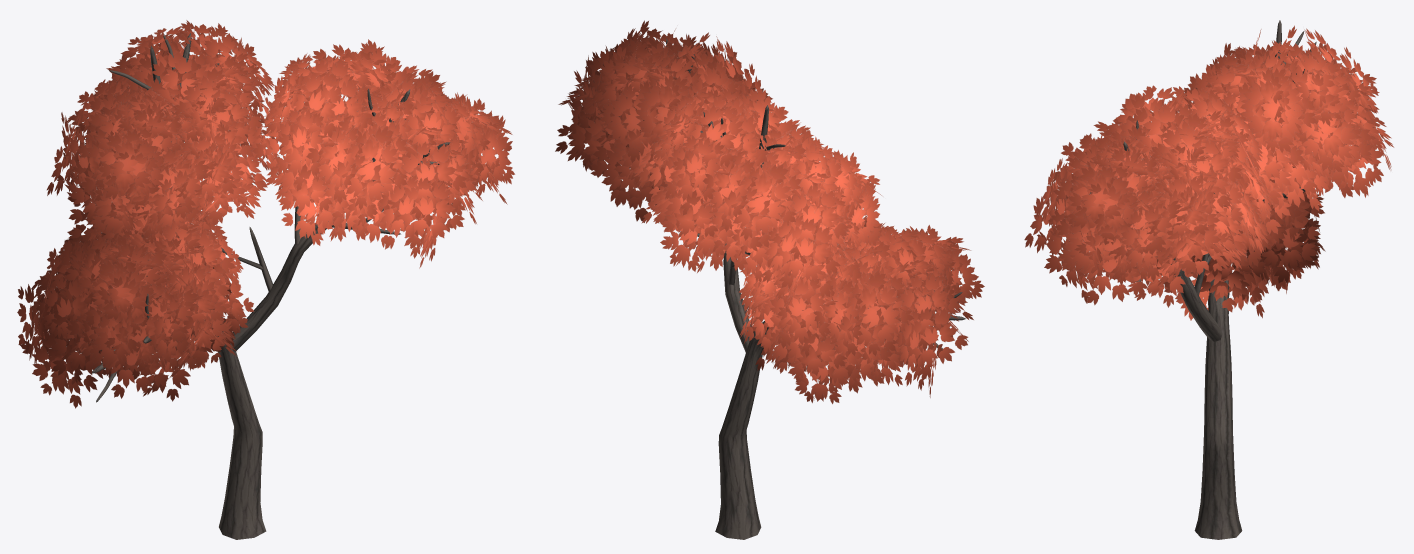
Rendered from MapleTree_5.glb.
3 renders of one model, left to right at view 1: azimuth 30°, elevation 25°; view 2: azimuth 150°, elevation 25°; view 3: azimuth 270°, elevation 25°, orthographic. The views are drawn at different scales.
Parts seen in each view (by area): view 1: MapleTree_5; view 2: MapleTree_5; view 3: MapleTree_5.
Part boxes in pixels (left/top/right/bottom): MapleTree_5: left=17, top=20, right=514, bottom=539; MapleTree_5: left=555, top=20, right=984, bottom=539; MapleTree_5: left=1024, top=20, right=1394, bottom=539.
Bounding box in the file's own units: 7.01 × 7.28 × 5.08.
2 materials, 2 textured.
